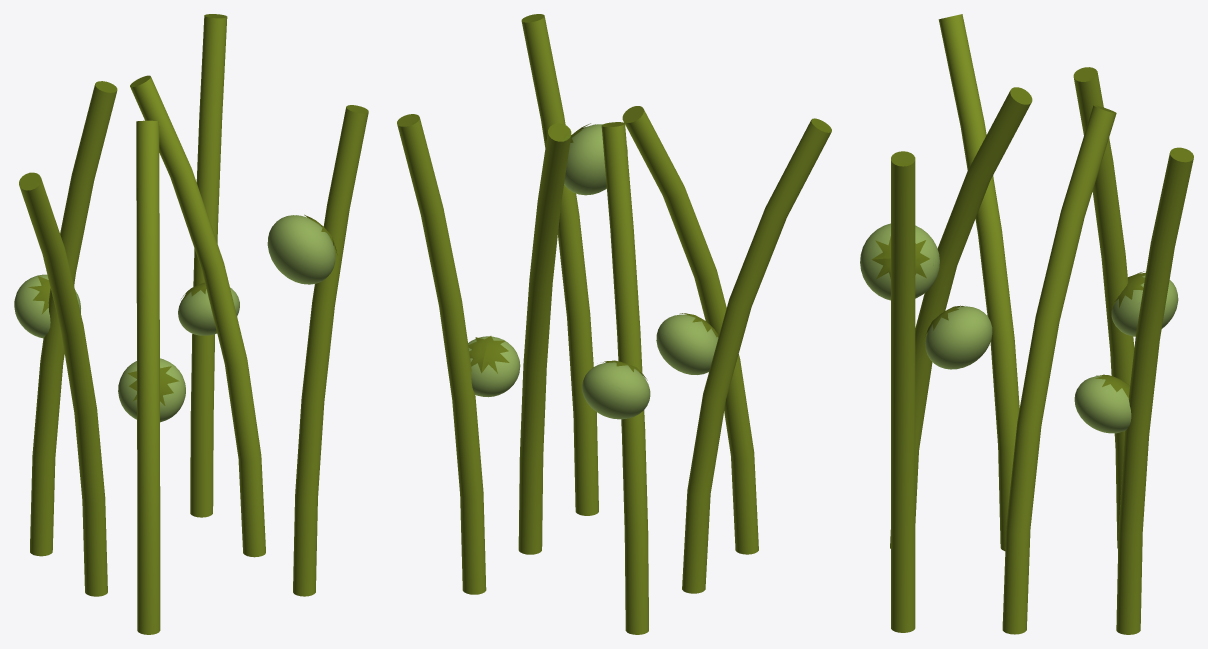
File: TomatoLarge.FBX
3 renders of one model, left to right at view 1: azimuth 30°, elevation 25°; view 2: azimuth 150°, elevation 25°; view 3: azimuth 270°, elevation 25°, orthographic. The views are drawn at different scales.
Visible parts, largest first — view 1: Cylinder001; view 2: Cylinder001; view 3: Cylinder001.
Boxes of the visible parts, x1,y1,x2,y2 form: Cylinder001: [14, 14, 368, 634]; Cylinder001: [397, 14, 831, 634]; Cylinder001: [860, 14, 1193, 634].
Bounding box in the file's own units: 25.76 × 35.86 × 21.75.
Materials: 1 (1 with a texture image).
